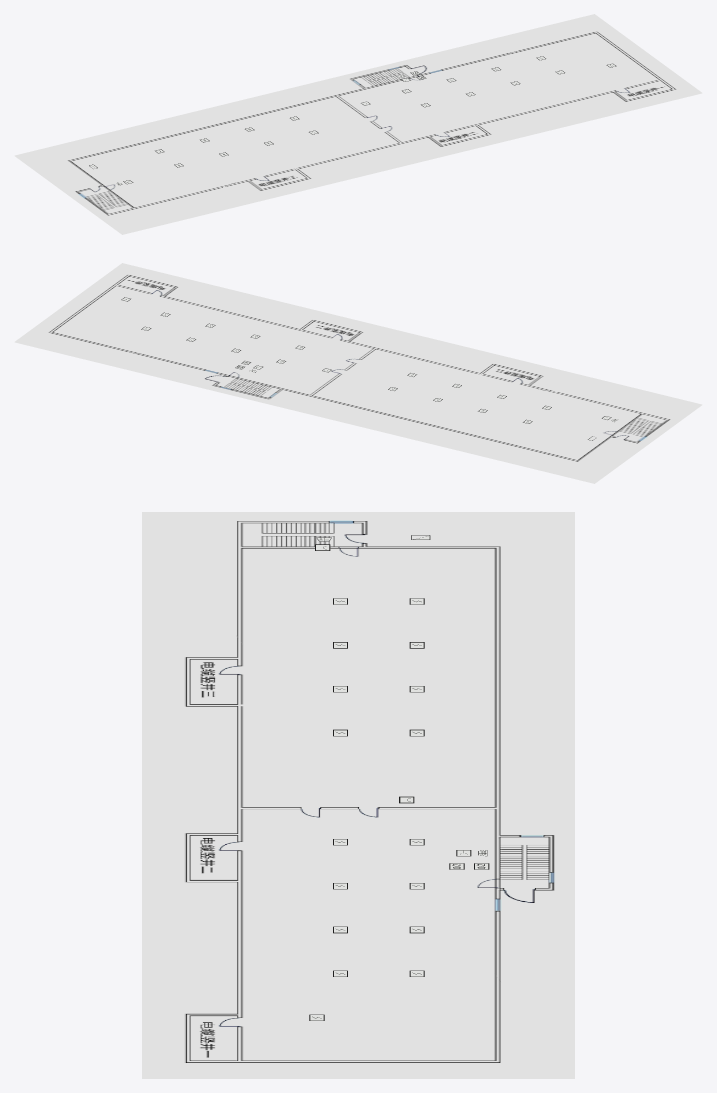
3 renders of one model, top to bottom at view 1: azimuth 30°, elevation 25°; view 2: azimuth 150°, elevation 25°; view 3: azimuth 270°, elevation 25°, orthographic. The views are drawn at different scales.
Visible parts, largest first — view 1: NC_RM_Floor_电缆层; view 2: NC_RM_Floor_电缆层; view 3: NC_RM_Floor_电缆层.
Part boxes in pixels (x1,y1,x2,y2): NC_RM_Floor_电缆层: [14, 14, 702, 234]; NC_RM_Floor_电缆层: [14, 263, 702, 483]; NC_RM_Floor_电缆层: [142, 512, 574, 1078].
Bounding box in the file's own units: 53000 × 631 × 17120.
3 materials, 3 textured.
